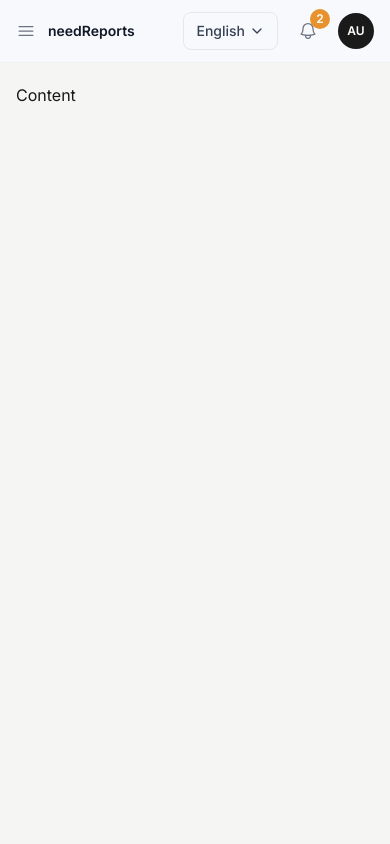
Test: Admin responsive navigation › closes the mobile drawer after selecting a destination
Step 1. Click the button named "openMenu" → point(26, 31), box [16,21,36,41]
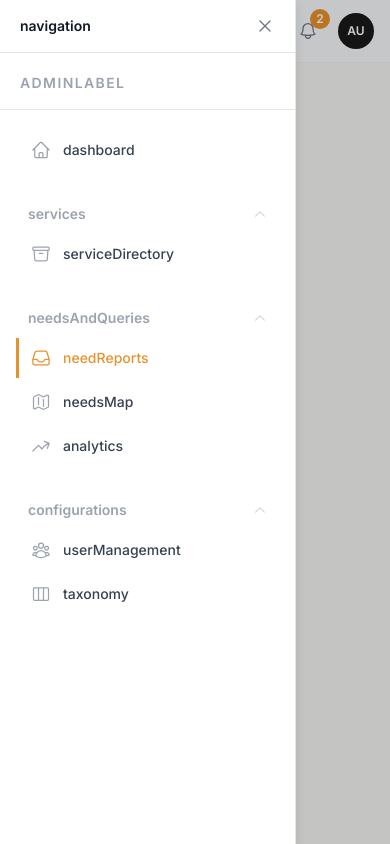
Step 2. Click the link "needReports" → point(148, 358), box [16,338,279,378]
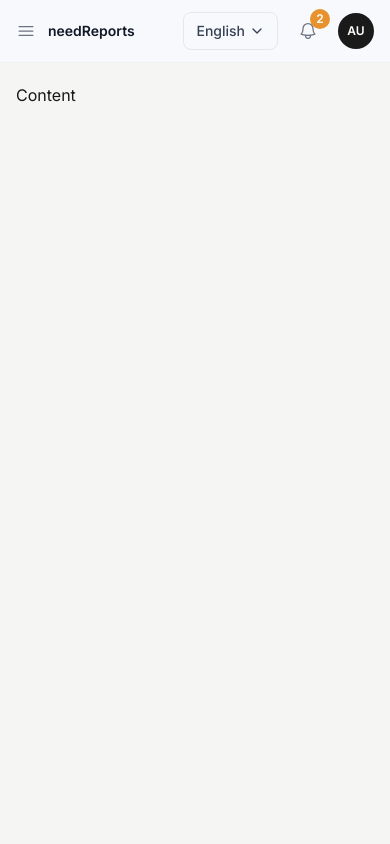
Expected: the dialog "adminNavigation" is gone
